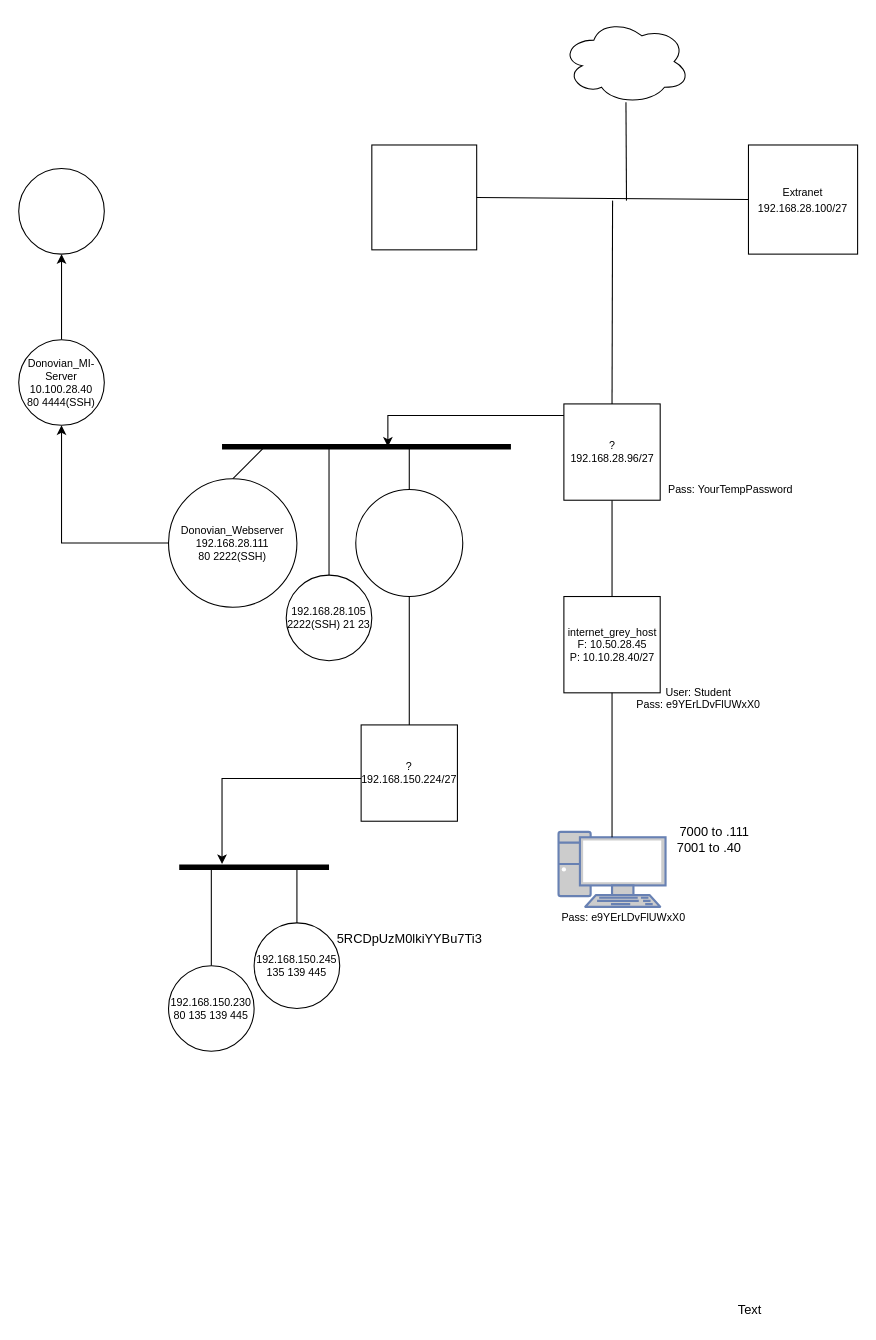
This 876x1340 diagram has some shape labels left out. Here are the shapes that lost their labels. From the top down, the centre of each, then its label:
At point 625,61: "Internet".
At point 61,210: "Training-Site 10.100.28.55".
At point 424,197: "Intranet 192.168.150.253/27".
At point 409,542: "Donovian-Grey-Host 192.168.28.120 4242(SSH)".
At point 611,868: "Me P: 192.168.65.20 F: 10.50.23.229".
